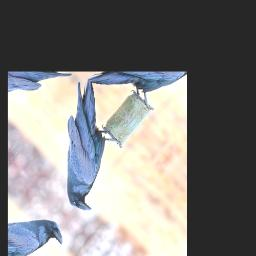Crow: (18, 75, 150, 220)
